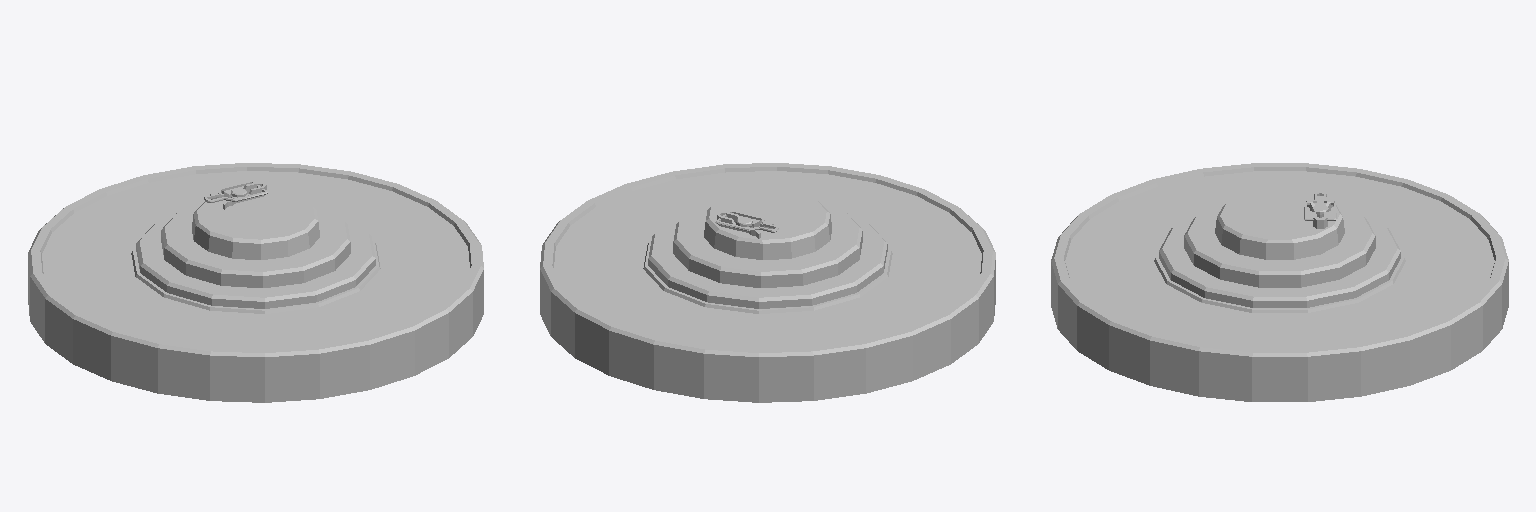
File: Mine.obj
3 renders of one model, left to right at view 1: azimuth 30°, elevation 25°; view 2: azimuth 150°, elevation 25°; view 3: azimuth 270°, elevation 25°, orthographic.
Parts seen in each view (by area): view 1: Mine_Circle.001; view 2: Mine_Circle.001; view 3: Mine_Circle.001.
Boxes of the visible parts, x1=… form: Mine_Circle.001: x1=28, y1=163, x2=483, y2=402; Mine_Circle.001: x1=540, y1=163, x2=995, y2=402; Mine_Circle.001: x1=1051, y1=163, x2=1508, y2=401.
Bounding box in the file's own units: 0.2005 × 0.049 × 0.202.